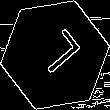L_SW: (27, 27, 83, 83)
